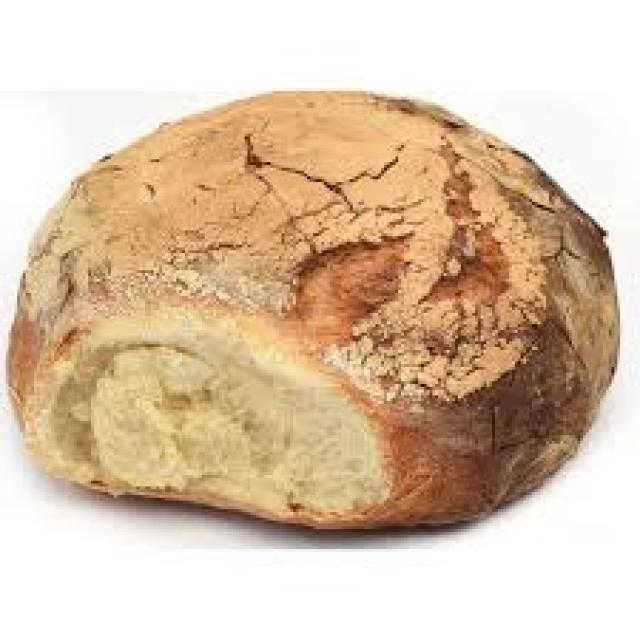Maltese-Bread: (11, 91, 614, 526)
